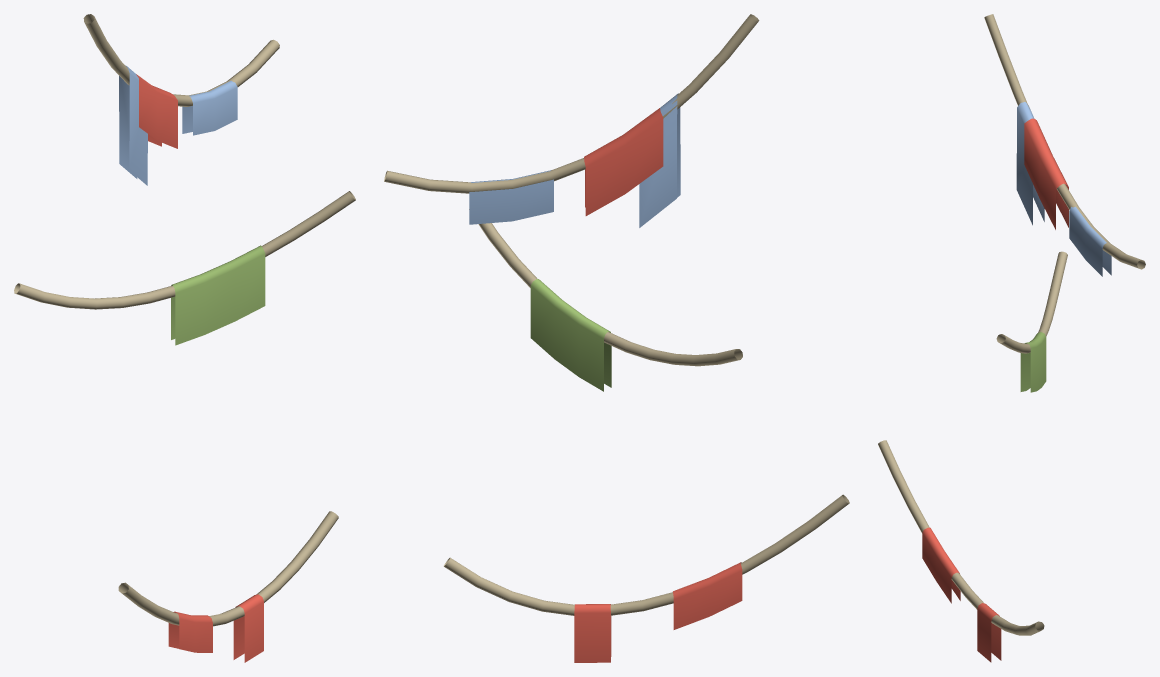
The model's file is BuildingCluster_cloths04.fbx.
The picture shows the model from 3 angles, left to right: view 1: azimuth 30°, elevation 25°; view 2: azimuth 150°, elevation 25°; view 3: azimuth 270°, elevation 25°; orthographic projection. The views are drawn at different scales.
Parts seen in each view (by area): view 1: rope.midMesh, rope.topMesh, rope.botMesh; view 2: rope.topMesh, rope.botMesh, rope.midMesh; view 3: rope.topMesh, rope.botMesh, rope.midMesh.
Boxes of the visible parts, box(x1,y1,x2,y2) form: rope.midMesh: box(14, 191, 355, 345); rope.topMesh: box(83, 14, 279, 185); rope.botMesh: box(118, 511, 338, 662); rope.topMesh: box(384, 14, 759, 227); rope.botMesh: box(443, 494, 849, 662); rope.midMesh: box(469, 209, 742, 391); rope.topMesh: box(984, 14, 1145, 276); rope.botMesh: box(878, 440, 1044, 662); rope.midMesh: box(996, 251, 1067, 392).
Size of the model in its own units: 479 by 1001 by 421.
